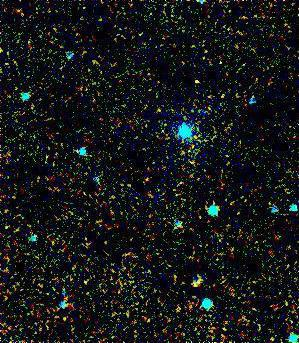star: (181, 67, 211, 97)
